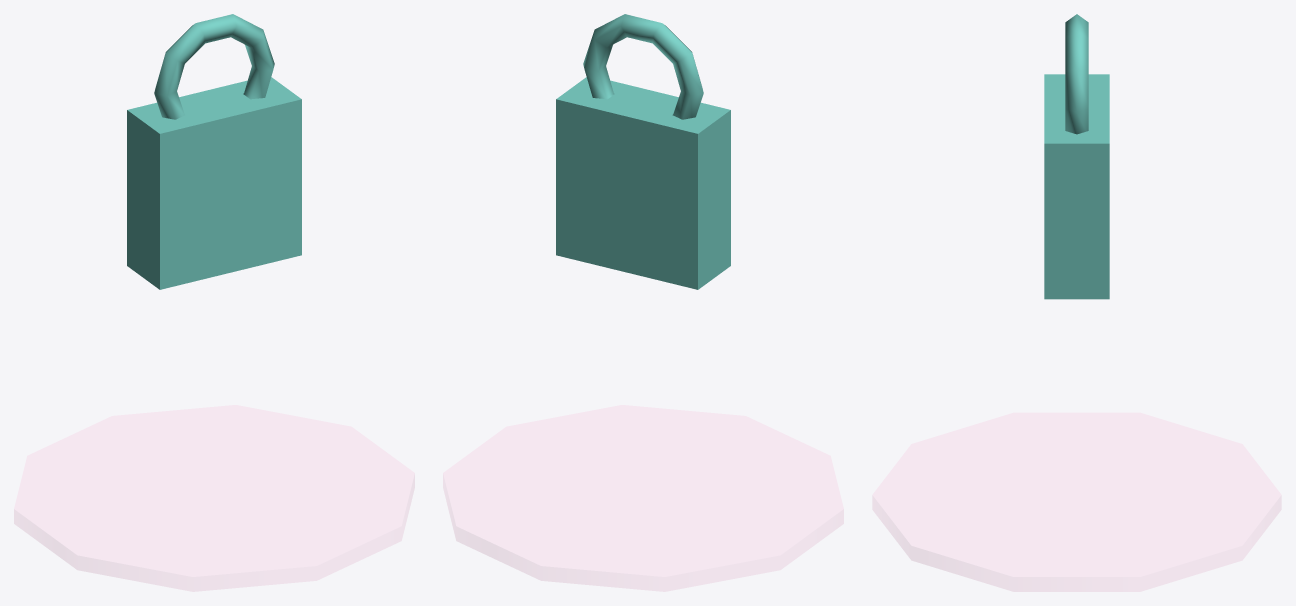
File: tote.glb
The picture shows the model from 3 angles, left to right: view 1: azimuth 30°, elevation 25°; view 2: azimuth 150°, elevation 25°; view 3: azimuth 270°, elevation 25°; orthographic projection.
Size of the model in its own units: 0.9511 by 1.31 by 1.
